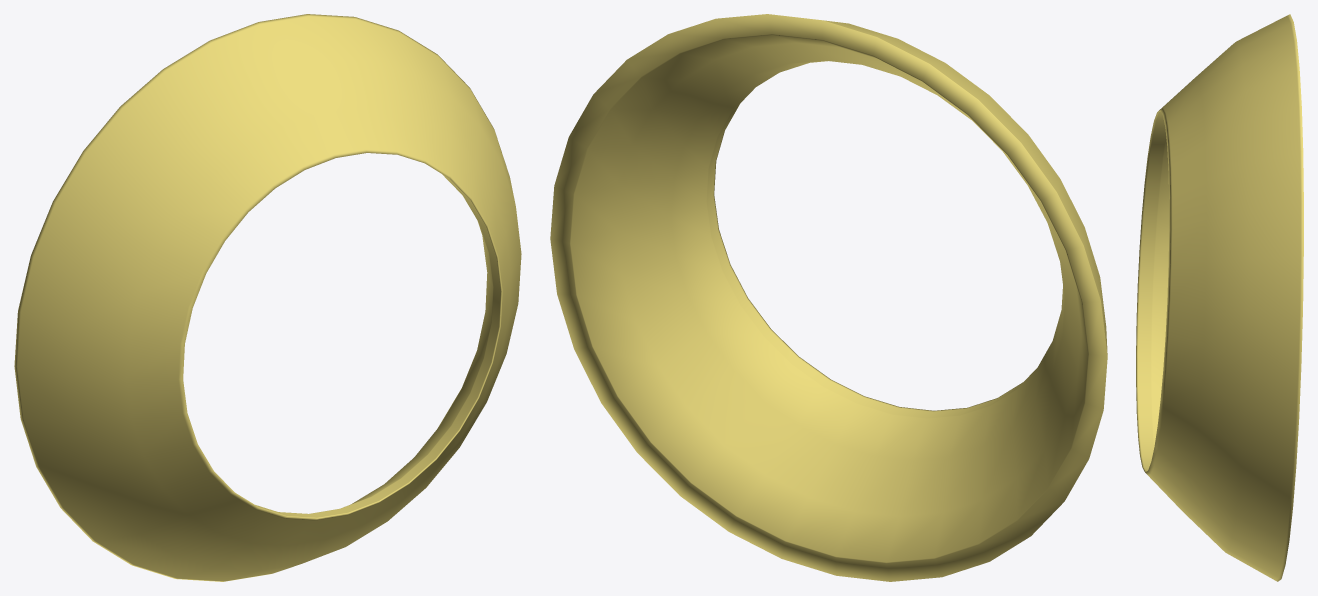
The model's file is anterior-segment-of-eyeball-l.glb.
3 views of the same model, side by side, from view 1: azimuth 30°, elevation 25°; view 2: azimuth 150°, elevation 25°; view 3: azimuth 270°, elevation 25° (orthographic). The views are drawn at different scales.
Parts seen in each view (by area): view 1: Anterior segment of eyeball.l; view 2: Anterior segment of eyeball.l; view 3: Anterior segment of eyeball.l.
Boxes of the visible parts, box(x1,y1,x2,y2) form: Anterior segment of eyeball.l: box(14, 14, 521, 581); Anterior segment of eyeball.l: box(550, 14, 1107, 581); Anterior segment of eyeball.l: box(1136, 14, 1303, 581).
Size of the model in its own units: 0.0223 by 0.0223 by 0.0066.
